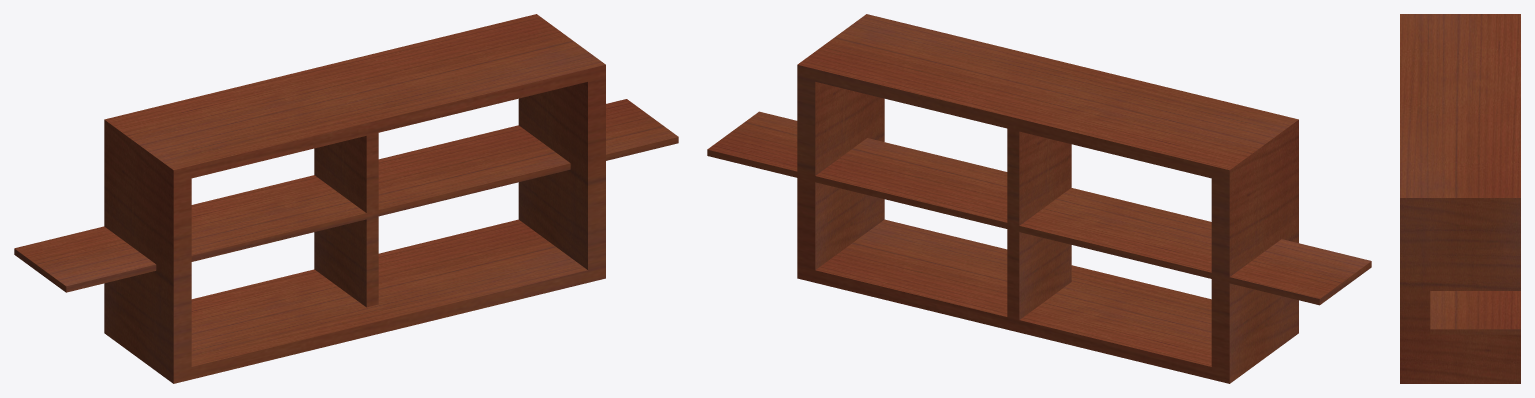
Rendered from mensolaCiliegio.obj.
3 renders of one model, left to right at view 1: azimuth 30°, elevation 25°; view 2: azimuth 150°, elevation 25°; view 3: azimuth 270°, elevation 25°, orthographic. The views are drawn at different scales.
Visible parts, largest first — view 1: Rectangle02_1, Box66_2, Box65_3; view 2: Rectangle02_1, Box66_2, Box65_3; view 3: Rectangle02_1, Box66_2.
Boxes of the visible parts, x1,y1,x2,y2 form: Rectangle02_1: (104,14,605,383); Box66_2: (14,99,678,292); Box65_3: (314,133,378,307); Rectangle02_1: (797,14,1298,383); Box66_2: (707,111,1371,305); Box65_3: (1007,128,1071,319); Rectangle02_1: (1400,14,1520,383); Box66_2: (1430,291,1520,334).
Size of the model in its own units: 102 by 34 by 20.
